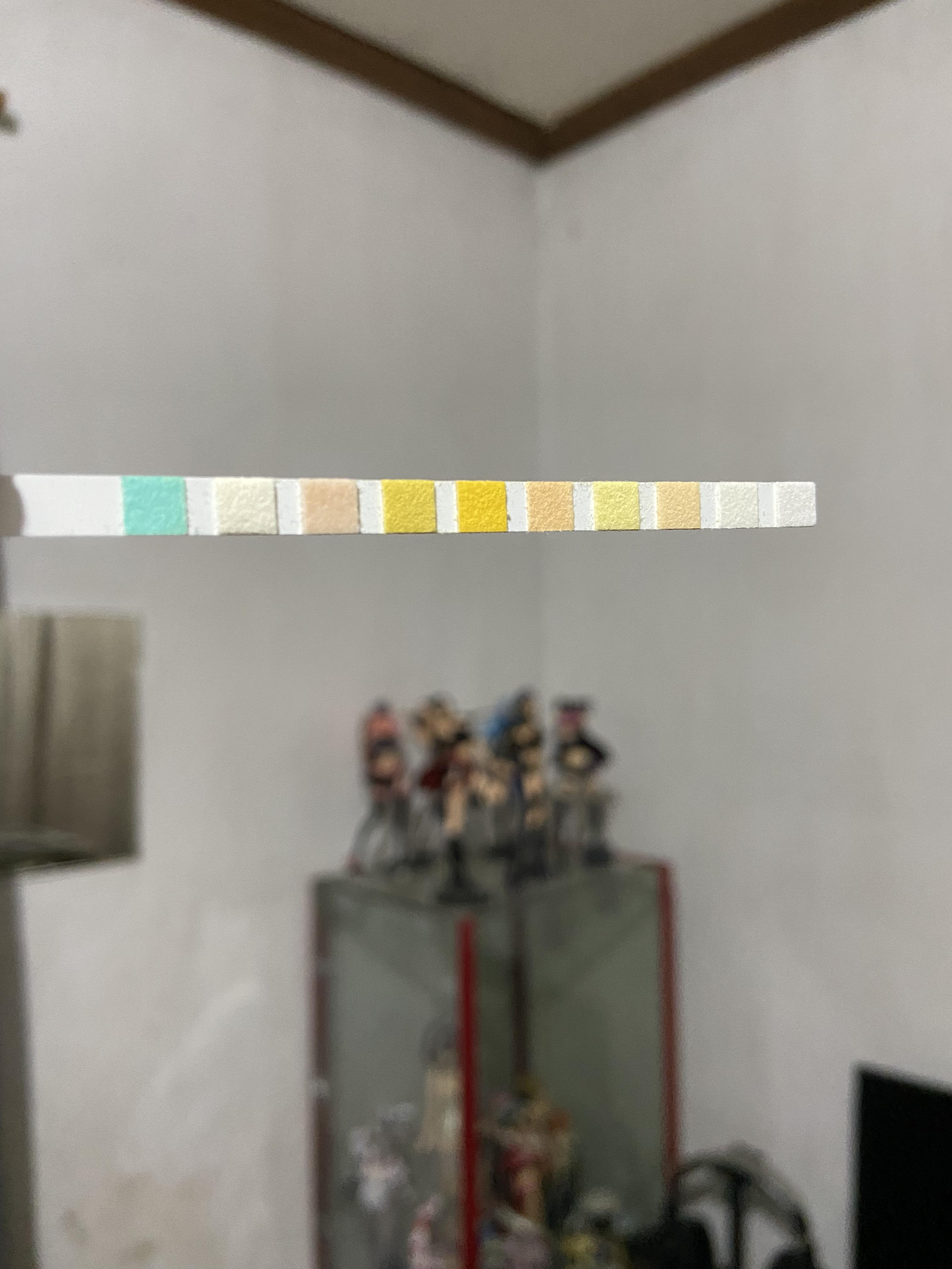Bilirubin: (221, 477, 274, 532)
Blood: (460, 483, 505, 531)
Glucose: (127, 478, 184, 534)
Ketone: (306, 481, 356, 532)
Leukocytes: (778, 484, 813, 526)
Nitrite: (721, 484, 757, 527)
Protein: (597, 483, 637, 529)
SpGravity: (385, 482, 434, 531)
Urobilinogen: (660, 483, 698, 528)
pH: (531, 482, 572, 528)
strip: (0, 475, 816, 535)
